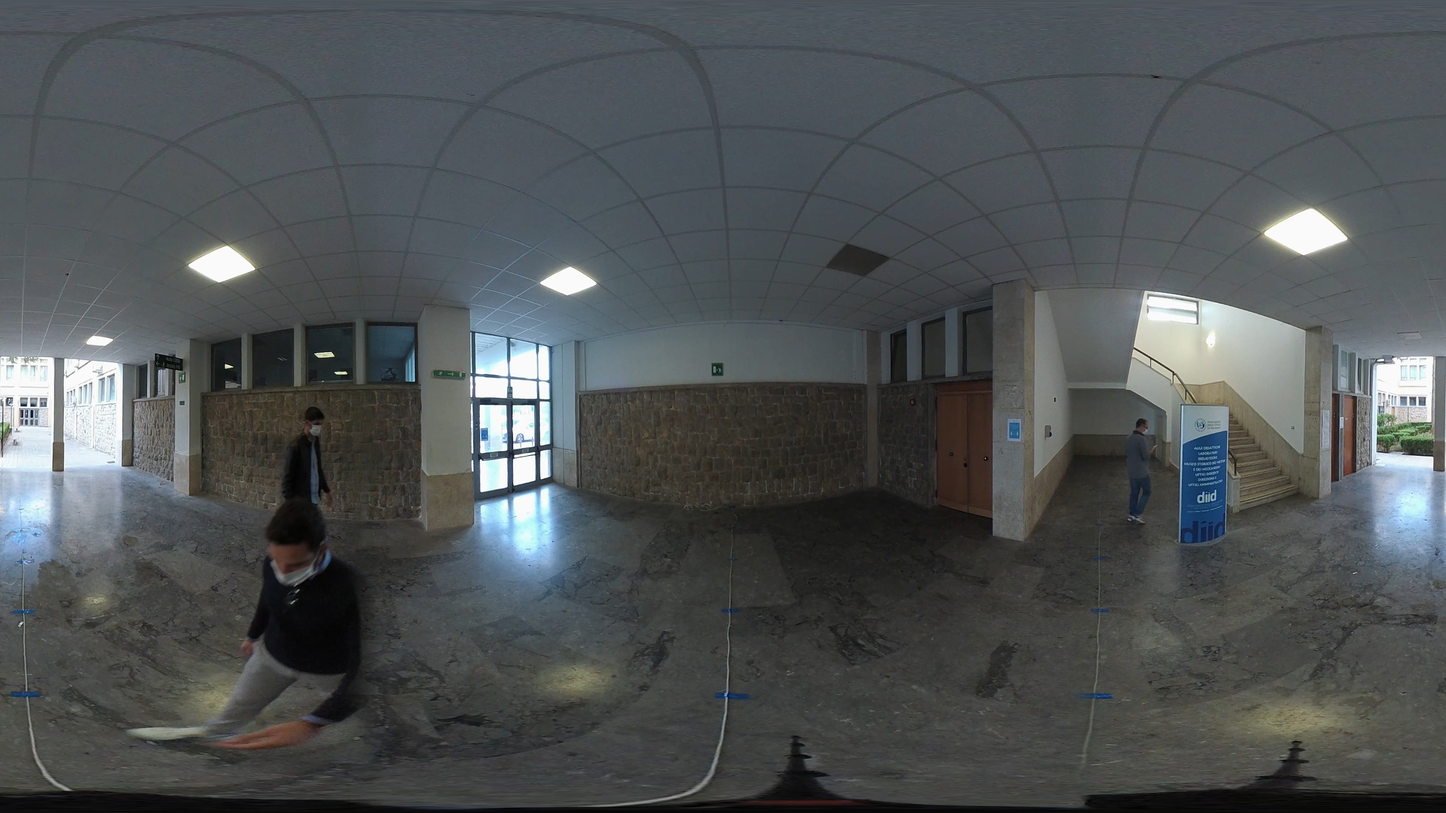Person: (126, 271, 364, 750), (1124, 417, 1155, 525)
